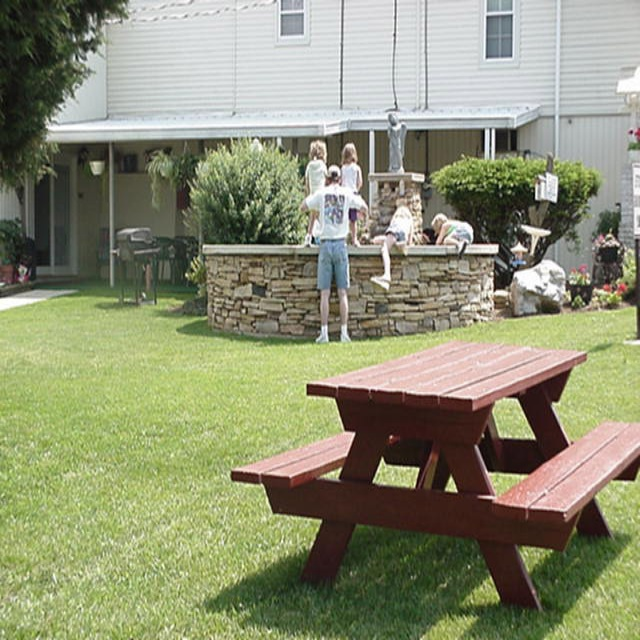obstacle: (222, 325, 637, 627)
